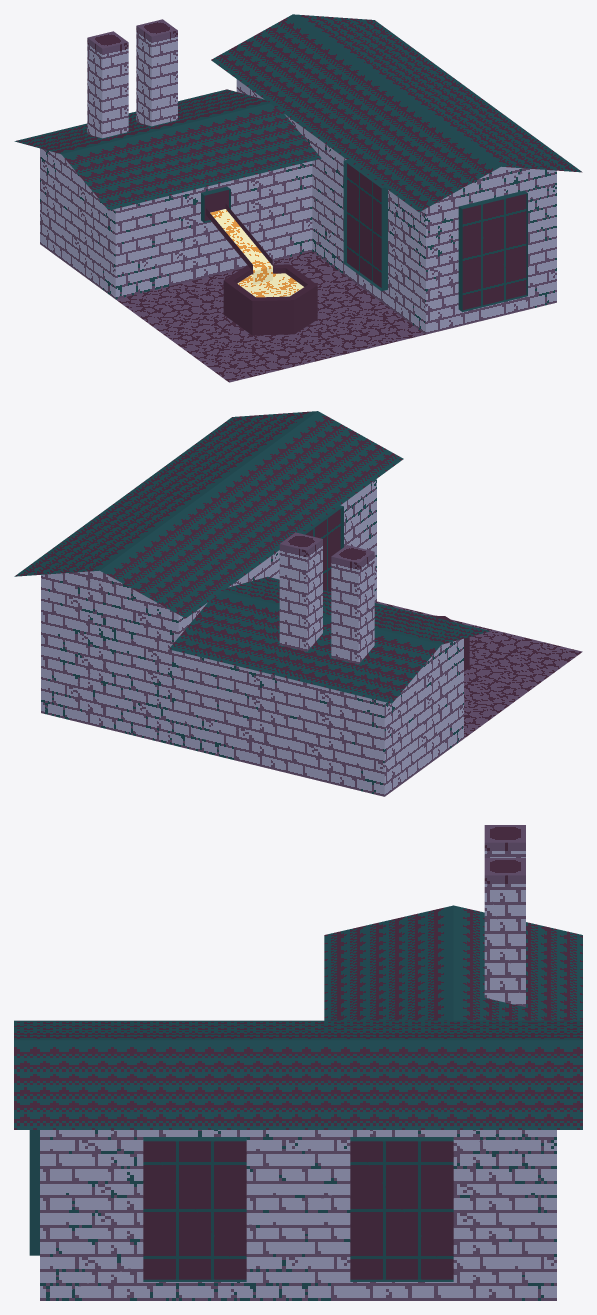
Rendered from metallurgical_works.glb.
3 renders of one model, top to bottom at view 1: azimuth 30°, elevation 25°; view 2: azimuth 150°, elevation 25°; view 3: azimuth 270°, elevation 25°, orthographic. The views are drawn at different scales.
Visible parts, largest first — view 1: metallurgical_works; view 2: metallurgical_works; view 3: metallurgical_works.
Part boxes in pixels (x1,y1,x2,y2): metallurgical_works: [14, 14, 582, 382]; metallurgical_works: [14, 411, 582, 796]; metallurgical_works: [14, 825, 582, 1300].
Size of the model in its own units: 11 by 6 by 11.
Materials: 1 (1 with a texture image).
